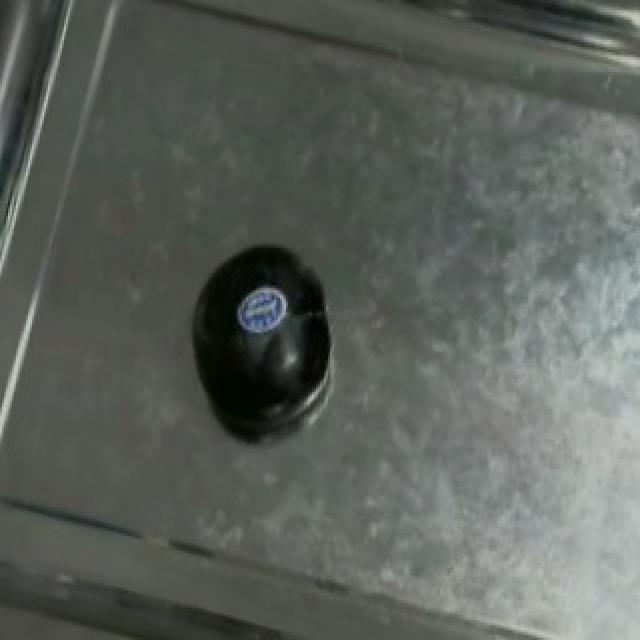Fruit: (172, 238, 358, 447)
